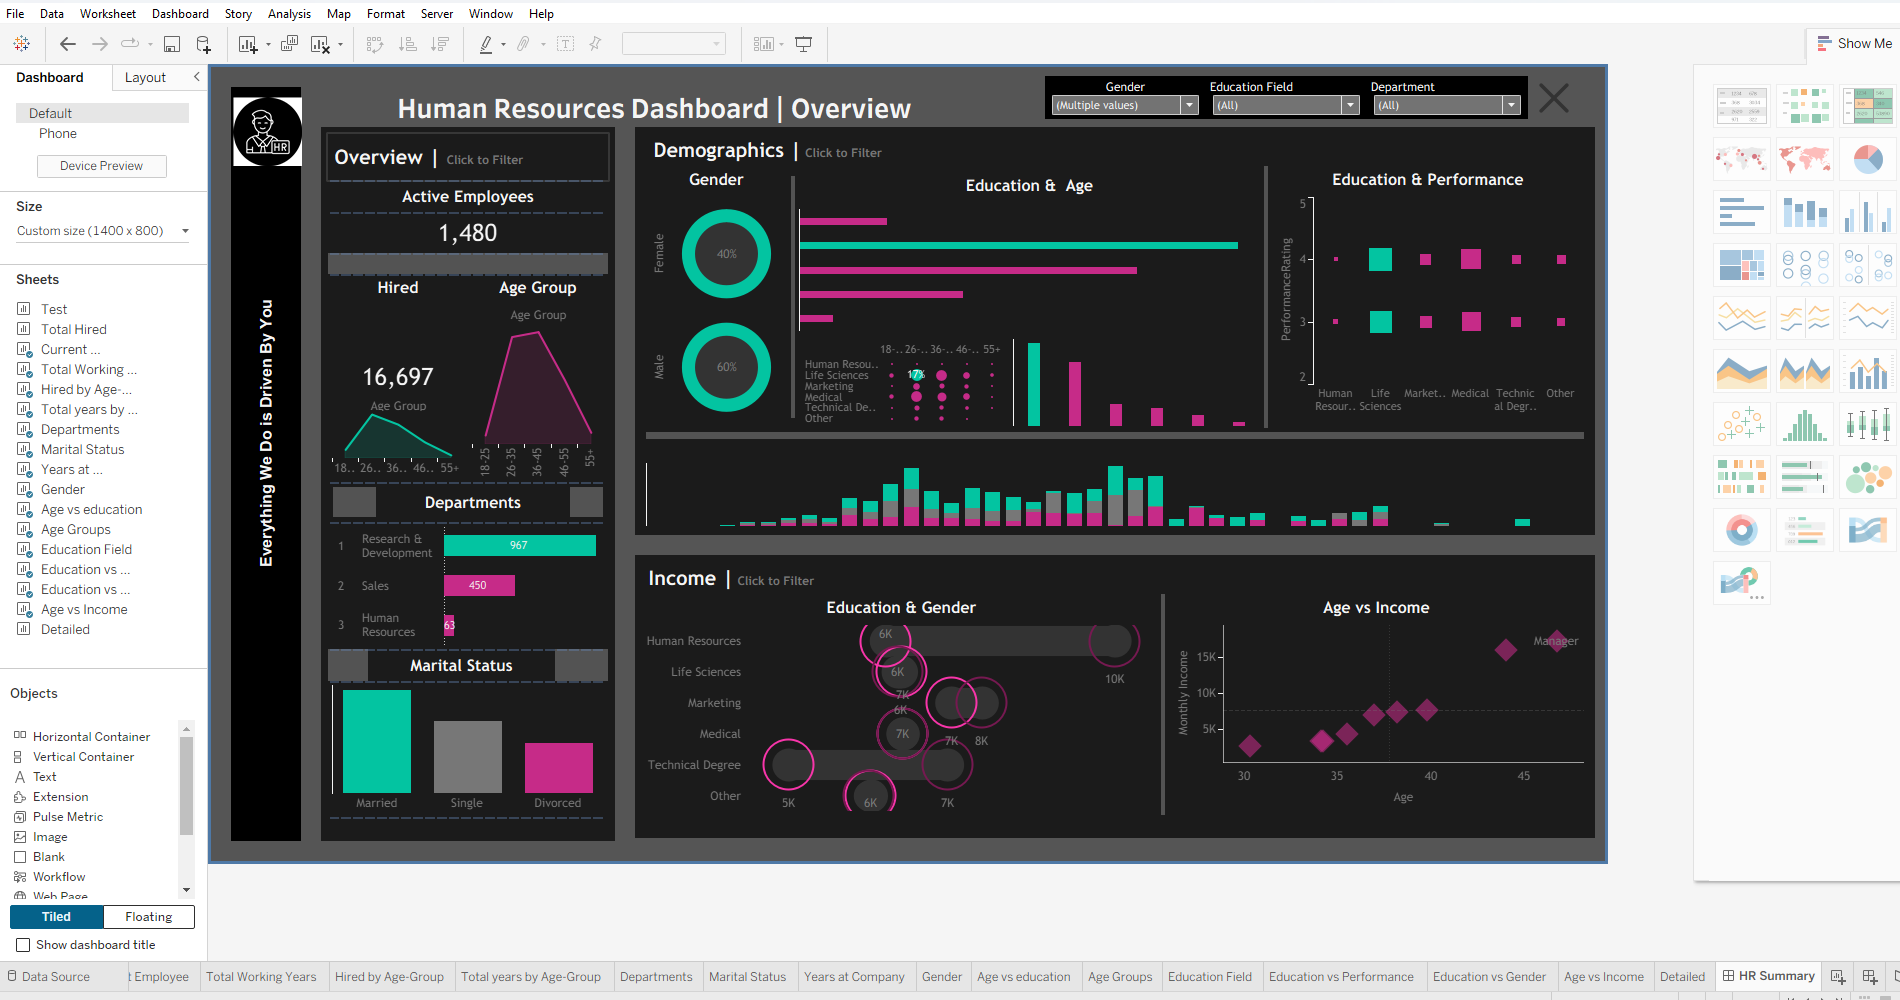

This screenshot's page, from the dashboard's own definition file:
{"tool":"tableau","page":{"name":"HR Summary","canvas":[1400,800],"ordinal":0},"visuals":[{"type":"filter","title":"Education vs Gender","param":"[federated.1yhnapf0iklcq41autec00l7i0dv].[none:Gender:nk]","box":[837,12,161,43]},{"type":"filter","title":"Education vs Gender","param":"[federated.1yhnapf0iklcq41autec00l7i0dv].[none:EducationField:nk]","box":[998,12,161,43]},{"type":"filter","title":"Education vs Gender","param":"[federated.1yhnapf0iklcq41autec00l7i0dv].[none:Department:nk]","box":[1159,12,161,43]},{"type":"dashboard-object","box":[1320,12,52,44]},{"type":"blank","box":[23,23,70,177]},{"type":"text","box":[113,23,667,40]},{"type":"blank","box":[780,23,607,40]},{"type":"image","param":"Image/3.jpg","box":[25,26,69,84]},{"type":"text","box":[120,70,280,46]},{"type":"text","box":[434,70,946,32]},{"type":"text","box":[434,102,149,27]},{"type":"blank","box":[583,102,4,262]},{"type":"text","box":[587,102,469,39]},{"type":"blank","box":[1056,102,4,262]},{"type":"text","box":[1060,102,320,27]},{"type":"text","box":[120,116,280,32]},{"type":"worksheet","title":"Gender","mark":"Pie","rows":["Gender"],"cols":["Calculation_844424968219205636","Calculation_844424968219205636"],"box":[434,129,149,235]},{"type":"worksheet","title":"Education vs Performance","mark":"Square","rows":["PerformanceRating"],"cols":["EducationField"],"box":[1060,129,320,235]},{"type":"worksheet","title":"Age Groups","mark":"Bar","rows":["AgeGroup"],"cols":["Calculation_204069396182761472"],"box":[587,141,469,130]},{"type":"worksheet","title":"Current Employee","mark":"Text","box":[120,148,280,41]},{"type":"blank","box":[120,189,280,21]},{"type":"image","param":"Image/55.png","box":[23,200,70,88]},{"type":"text","box":[120,210,139.9,27]},{"type":"text","box":[259.9,210,139.9,27]},{"type":"worksheet","title":"Total Working Years","mark":"Text","box":[120,237,139.9,96]},{"type":"worksheet","title":"Total years by Age-Group","mark":"Line","rows":["YearsAtCompany","YearsAtCompany"],"cols":["AgeGroup"],"box":[259.9,237,139.9,181]},{"type":"worksheet","title":"Age vs education","mark":"Circle","rows":["EducationField"],"cols":["AgeGroup"],"box":[587,271,214,93]},{"type":"worksheet","title":"Education Field","mark":"Bar","rows":["Calculation_204069396182761472"],"cols":["EducationField"],"box":[801,271,254.9,93]},{"type":"text","box":[23,288,70,340]},{"type":"worksheet","title":"Hired by Age-Group","mark":"Line","rows":["Calculation_204069396182761472","Calculation_204069396182761472"],"cols":["AgeGroup"],"box":[120,333,139.9,85]},{"type":"blank","box":[434,364,946,15]},{"type":"worksheet","title":"Years at Company","mark":"Bar","rows":["YearsSinceLastPromotion"],"cols":["YearsAtCompany"],"box":[434,379,946,85]},{"type":"blank","box":[125,423,43,30]},{"type":"text","box":[168,423,194,30]},{"type":"blank","box":[362,423,33,30]},{"type":"worksheet","title":"Departments","mark":"Bar","rows":["Calculation_844424968211501057","Department"],"cols":["Calculation_204069396182761472"],"box":[120,458,280,127]},{"type":"text","box":[434,498,946,32]},{"type":"text","box":[434,530,519,27]},{"type":"blank","box":[953,530,4,221]},{"type":"text","box":[957,530,423,27]},{"type":"worksheet","title":"Education vs Gender","mark":"Square","rows":["EducationField"],"cols":["MonthlyIncome","MonthlyIncome"],"box":[434,557,519,194]},{"type":"worksheet","title":"Age vs Income","mark":"Shape","rows":["MonthlyIncome"],"cols":["Age"],"box":[957,557,423,194]},{"type":"blank","box":[120,585,40,32]},{"type":"text","box":[160,585,187,32]},{"type":"blank","box":[347,585,53,32]},{"type":"worksheet","title":"Marital Status","mark":"Bar","rows":["Calculation_204069396182761472"],"cols":["MaritalStatus"],"box":[120,617,280,136]}]}

Visuals, with their boxes on the page's 1400x800 design canvas (x1, y1, x2, y2). These are canvas units, not pixel positions in the 1900x1000 screenshot, which may show the page scaled, cropped or inside an application window:
"Education vs Gender" filter: left=837, top=12, right=998, bottom=55
"Education vs Gender" filter: left=998, top=12, right=1159, bottom=55
"Education vs Gender" filter: left=1159, top=12, right=1320, bottom=55
dashboard-object: left=1320, top=12, right=1372, bottom=56
blank: left=23, top=23, right=93, bottom=200
text: left=113, top=23, right=780, bottom=63
blank: left=780, top=23, right=1387, bottom=63
image: left=25, top=26, right=94, bottom=110
text: left=120, top=70, right=400, bottom=116
text: left=434, top=70, right=1380, bottom=102
text: left=434, top=102, right=583, bottom=129
blank: left=583, top=102, right=587, bottom=364
text: left=587, top=102, right=1056, bottom=141
blank: left=1056, top=102, right=1060, bottom=364
text: left=1060, top=102, right=1380, bottom=129
text: left=120, top=116, right=400, bottom=148
"Gender" worksheet (Pie marks): left=434, top=129, right=583, bottom=364
"Education vs Performance" worksheet (Square marks): left=1060, top=129, right=1380, bottom=364
"Age Groups" worksheet (Bar marks): left=587, top=141, right=1056, bottom=271
"Current Employee" worksheet (Text marks): left=120, top=148, right=400, bottom=189
blank: left=120, top=189, right=400, bottom=210
image: left=23, top=200, right=93, bottom=288
text: left=120, top=210, right=260, bottom=237
text: left=260, top=210, right=400, bottom=237
"Total Working Years" worksheet (Text marks): left=120, top=237, right=260, bottom=333
"Total years by Age-Group" worksheet (Line marks): left=260, top=237, right=400, bottom=418
"Age vs education" worksheet (Circle marks): left=587, top=271, right=801, bottom=364
"Education Field" worksheet (Bar marks): left=801, top=271, right=1056, bottom=364
text: left=23, top=288, right=93, bottom=628
"Hired by Age-Group" worksheet (Line marks): left=120, top=333, right=260, bottom=418
blank: left=434, top=364, right=1380, bottom=379
"Years at Company" worksheet (Bar marks): left=434, top=379, right=1380, bottom=464
blank: left=125, top=423, right=168, bottom=453
text: left=168, top=423, right=362, bottom=453
blank: left=362, top=423, right=395, bottom=453
"Departments" worksheet (Bar marks): left=120, top=458, right=400, bottom=585
text: left=434, top=498, right=1380, bottom=530
text: left=434, top=530, right=953, bottom=557
blank: left=953, top=530, right=957, bottom=751
text: left=957, top=530, right=1380, bottom=557
"Education vs Gender" worksheet (Square marks): left=434, top=557, right=953, bottom=751
"Age vs Income" worksheet (Shape marks): left=957, top=557, right=1380, bottom=751
blank: left=120, top=585, right=160, bottom=617
text: left=160, top=585, right=347, bottom=617
blank: left=347, top=585, right=400, bottom=617
"Marital Status" worksheet (Bar marks): left=120, top=617, right=400, bottom=753
